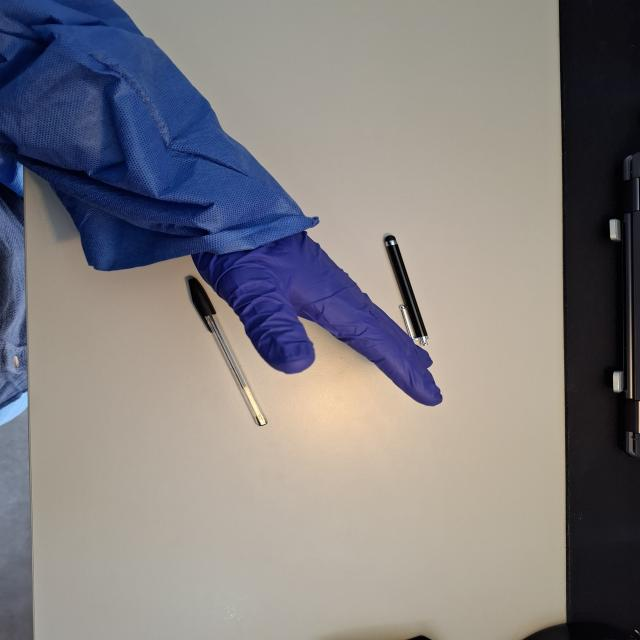glove_on: (186, 216, 447, 410)
